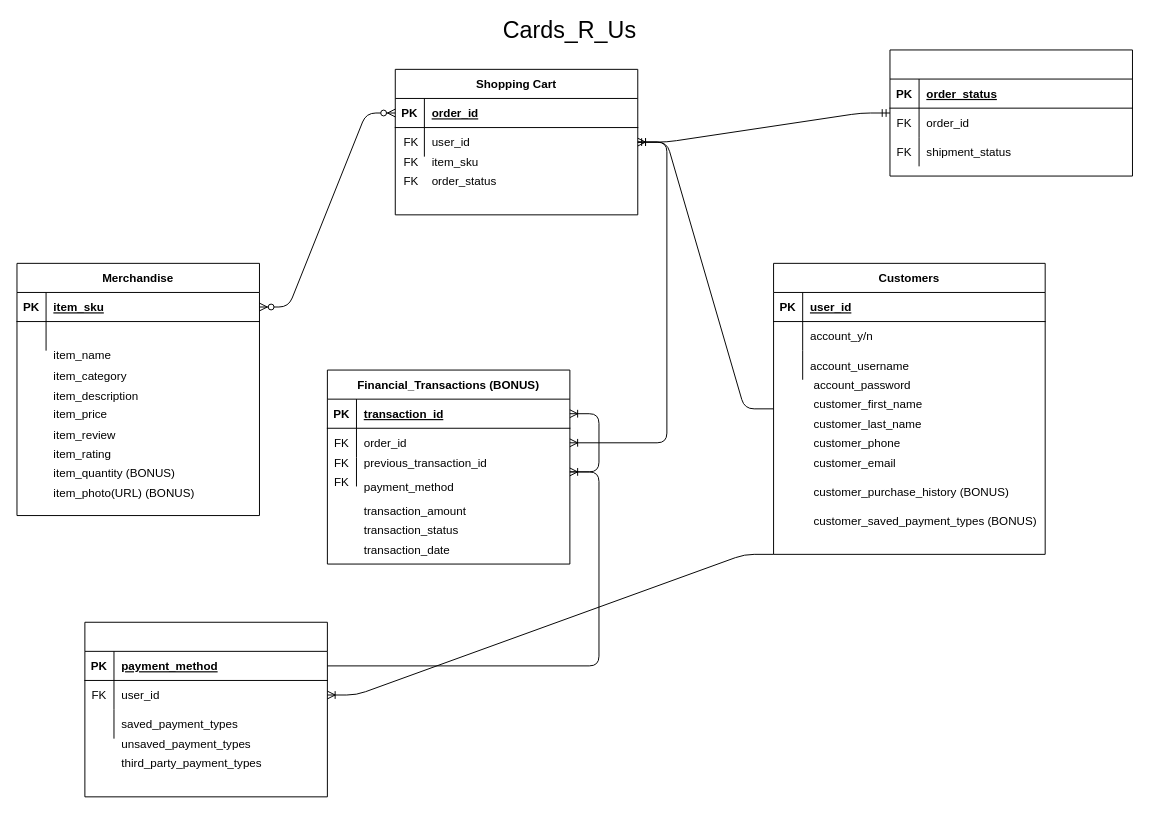
This 1149x814 diagram has some shape labels left out. The shapes that lost their labels are listed below. From the top down, each one's box as (x1, y1, x2, y2) in pixels, then its label:
(889, 49, 1132, 176): Orders(BONUS)
(84, 621, 327, 797): Payment_Types (BONUS)
